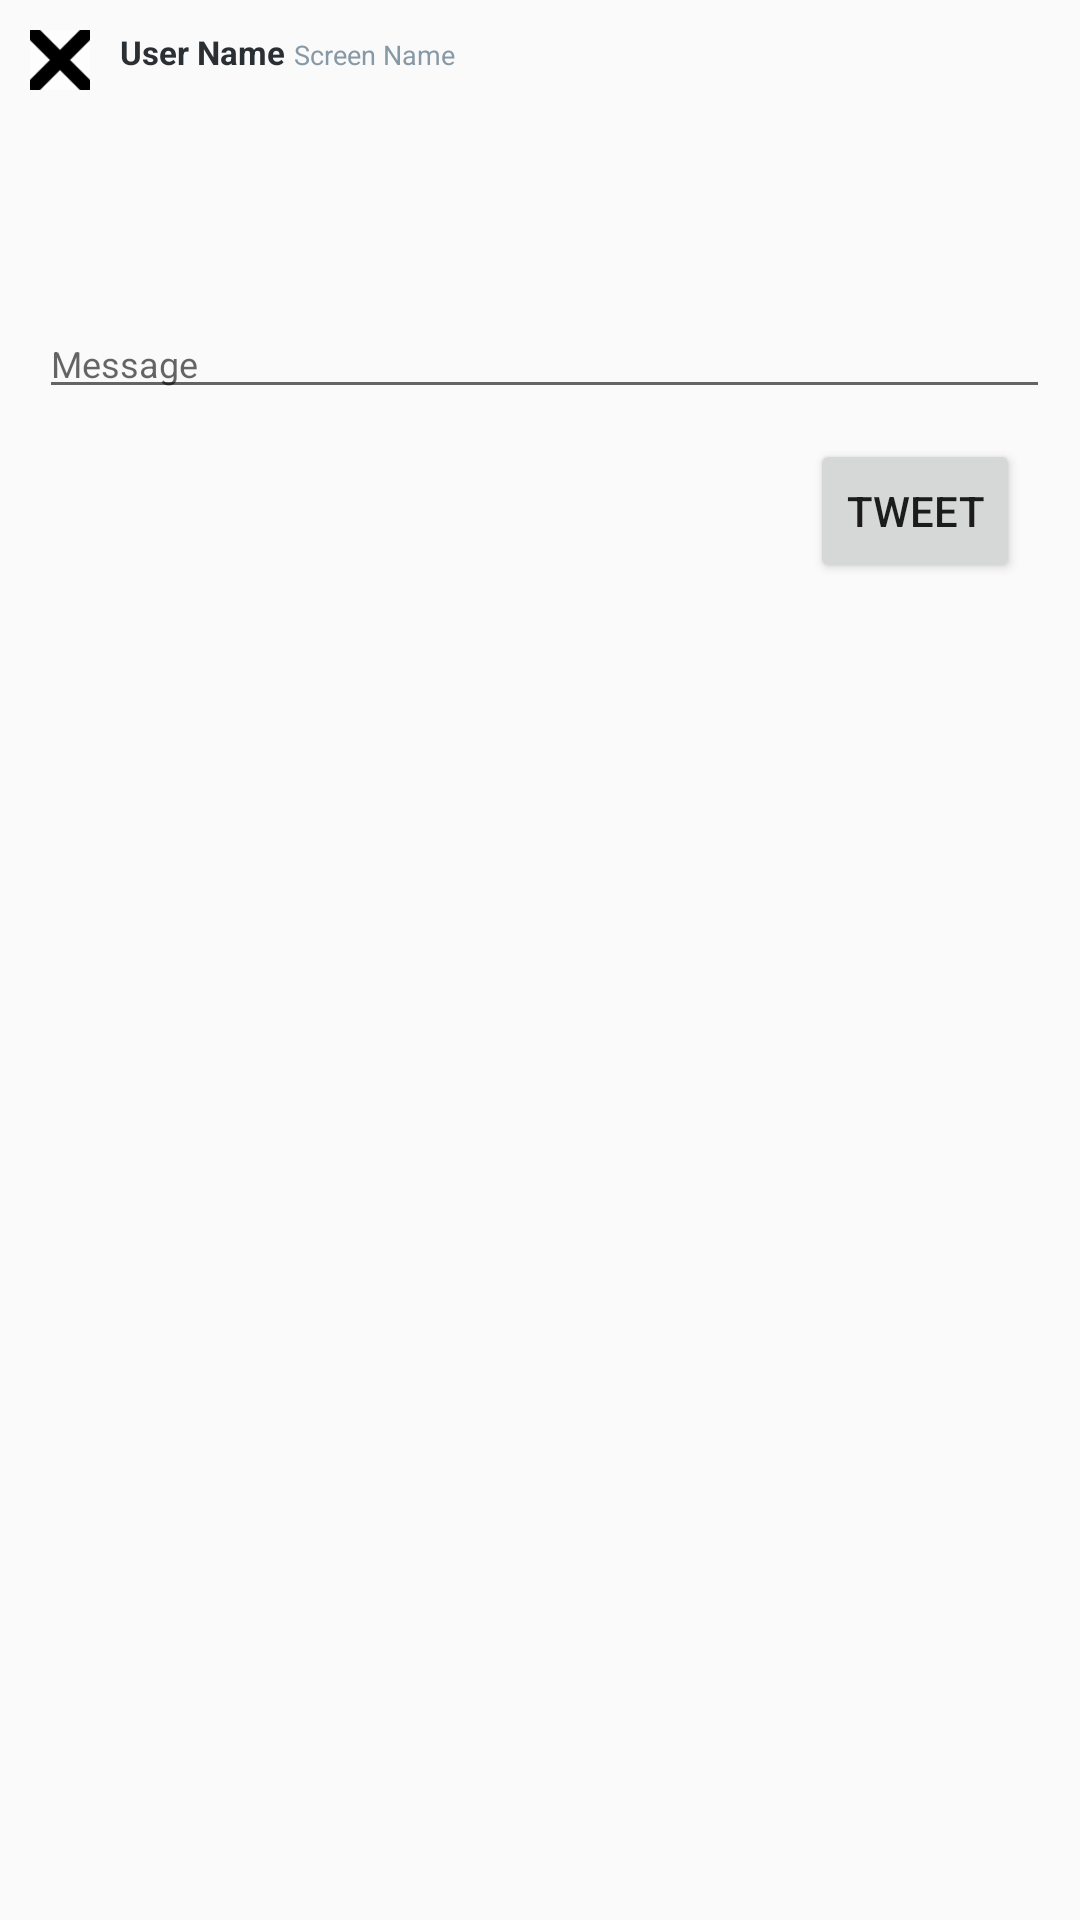

Where icons sit on this 1080px×1920px app screen, as [x1, y1, x2, y2]:
close: [30, 30, 90, 90]
